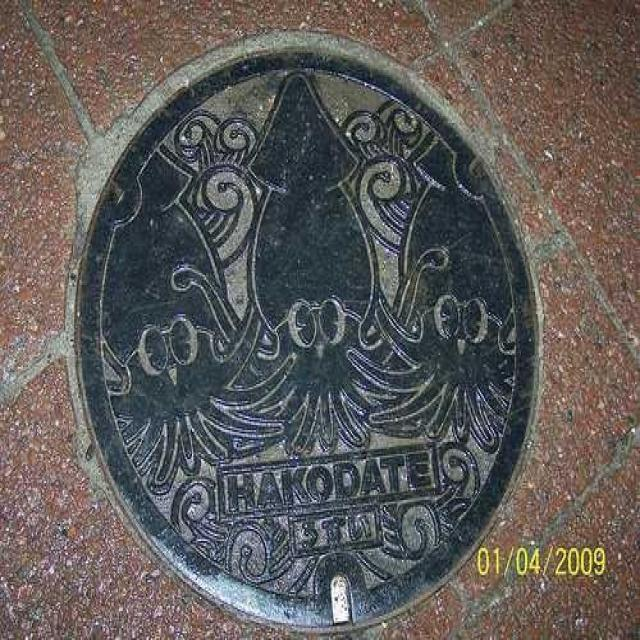manhole: (76, 33, 536, 629)
